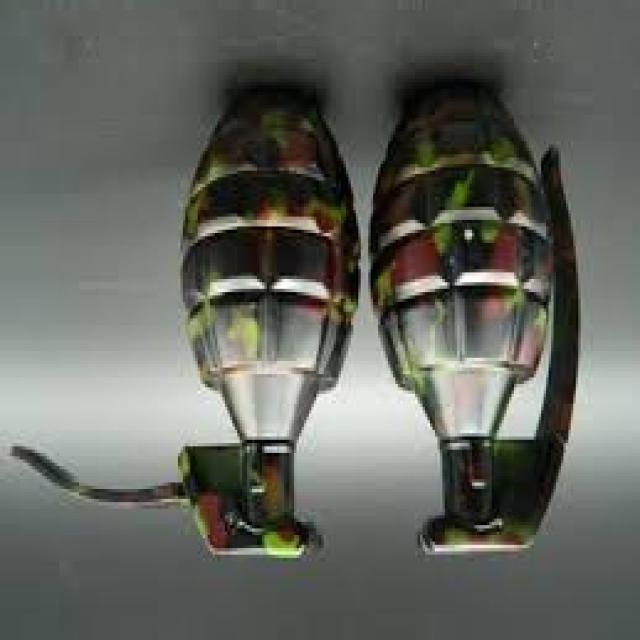grenade: (2, 88, 367, 563), (367, 88, 587, 566)
